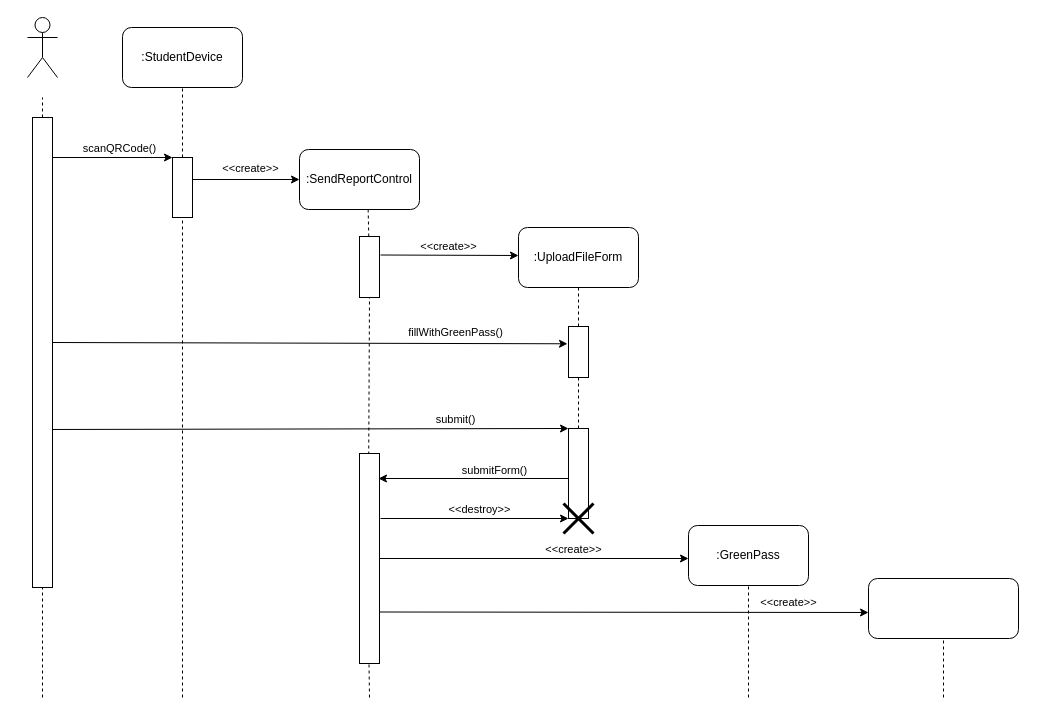
Some shapes in this 1037 by 716 pixel diagram are drawn without their labels. Each missing label, with the centre of its shape:
": AckUploadFileNotice" belongs at [943,608].
":Studente" belongs at [42,47].
